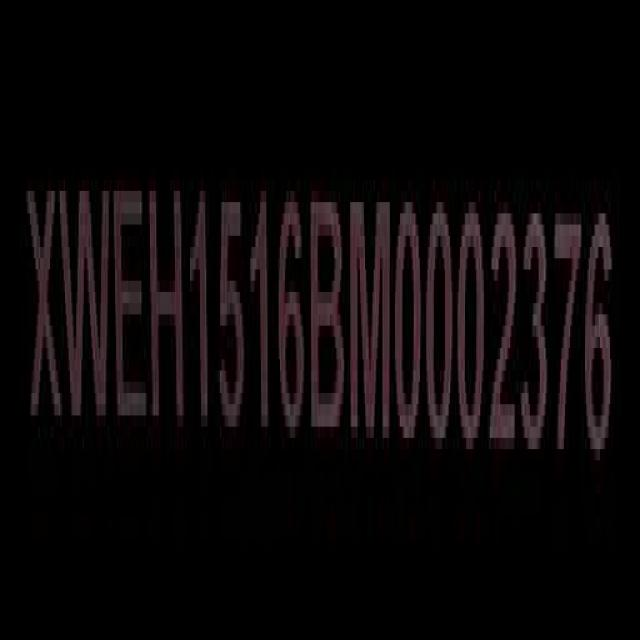0: (396, 192, 424, 446), (426, 198, 454, 450), (456, 203, 484, 452)
1: (191, 182, 213, 444), (251, 181, 273, 442)
2: (491, 207, 521, 458)
3: (524, 209, 550, 460)
5: (218, 184, 245, 440)
6: (277, 188, 307, 446), (588, 204, 617, 462)
7: (553, 204, 581, 463)
B: (312, 190, 346, 445)
E: (116, 180, 149, 440)
H: (152, 180, 184, 441)
M: (349, 178, 394, 447)
W: (63, 177, 114, 435)
X: (30, 181, 64, 439)
